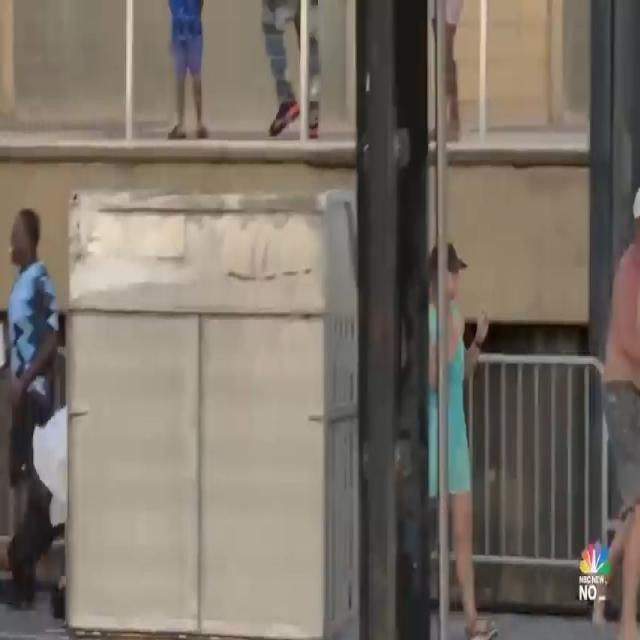non-fight: (2, 193, 67, 625), (431, 184, 490, 640), (592, 178, 640, 640)
